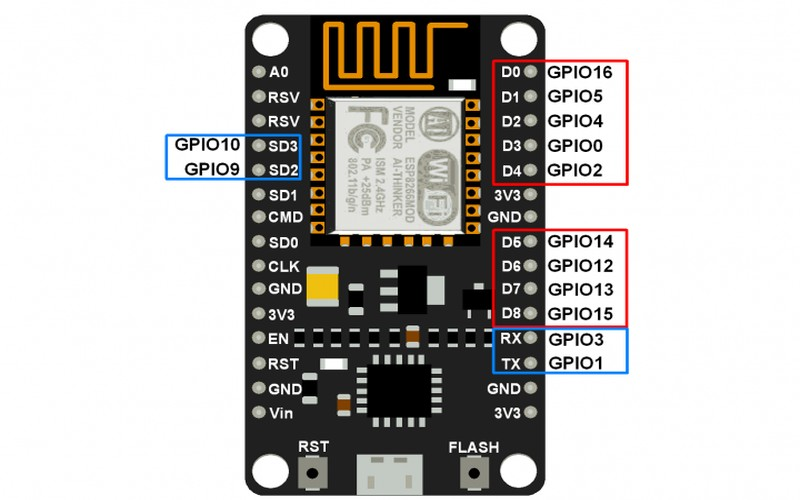IoT Sensor: (235, 0, 558, 499)
